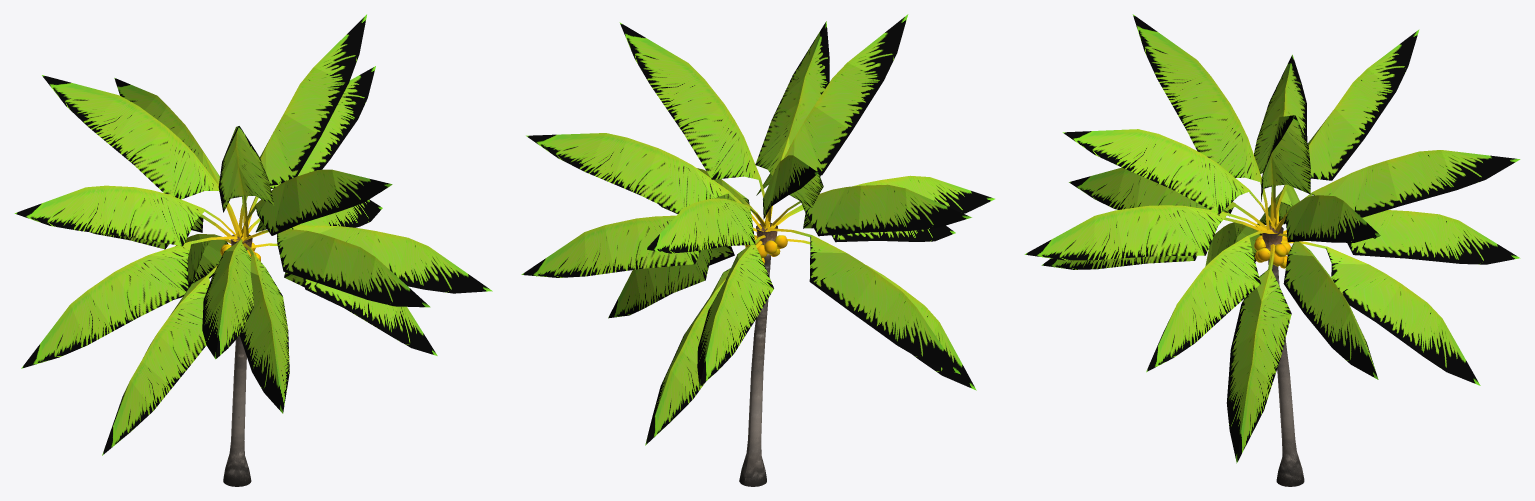
Rendered from palm_tree.gltf.
3 views of the same model, side by side, from view 1: azimuth 30°, elevation 25°; view 2: azimuth 150°, elevation 25°; view 3: azimuth 270°, elevation 25° (orthographic).
Parts seen in each view (by area): view 1: palm_tree; view 2: palm_tree; view 3: palm_tree.
Boxes of the visible parts, <box> form: palm_tree: <box>14,14,492,486</box>; palm_tree: <box>521,14,994,486</box>; palm_tree: <box>1024,14,1520,486</box>.
Bounding box in the file's own units: 10.05 × 10.08 × 10.55.
Materials: 1 (1 with a texture image).
